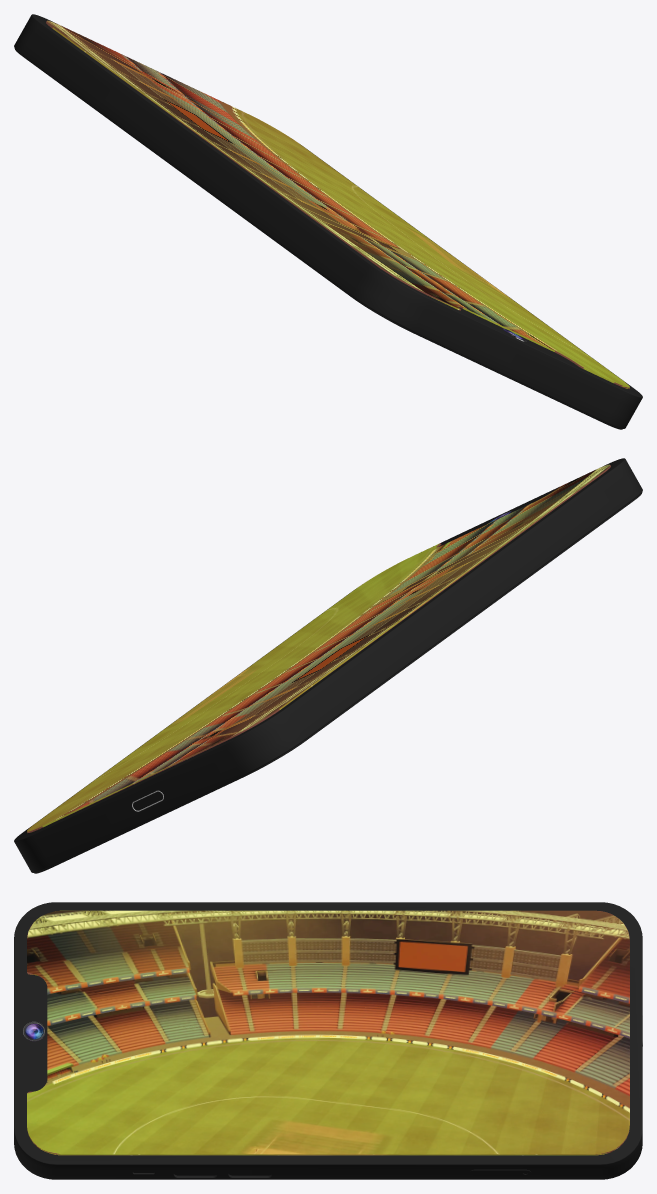
File: Mobile_compressed.glb
3 views of the same model, one above another, from view 1: azimuth 30°, elevation 25°; view 2: azimuth 150°, elevation 25°; view 3: azimuth 270°, elevation 25° (orthographic). The views are drawn at different scales.
Parts seen in each view (by area): view 1: Phone, Plane.001; view 2: Phone, Plane.001; view 3: Plane.001, Phone, Cube.001.
Boxes of the visible parts, left/top/right/bottom form: Phone: left=14, top=14, right=642, bottom=429; Plane.001: left=46, top=20, right=629, bottom=388; Phone: left=14, top=458, right=642, bottom=873; Plane.001: left=27, top=464, right=610, bottom=832; Plane.001: left=27, top=910, right=629, bottom=1155; Phone: left=14, top=902, right=642, bottom=1179; Cube.001: left=469, top=1169, right=531, bottom=1175.
Bounding box in the file's own units: 1.06 × 0.7788 × 2.48.
Materials: 5 (4 with a texture image).
